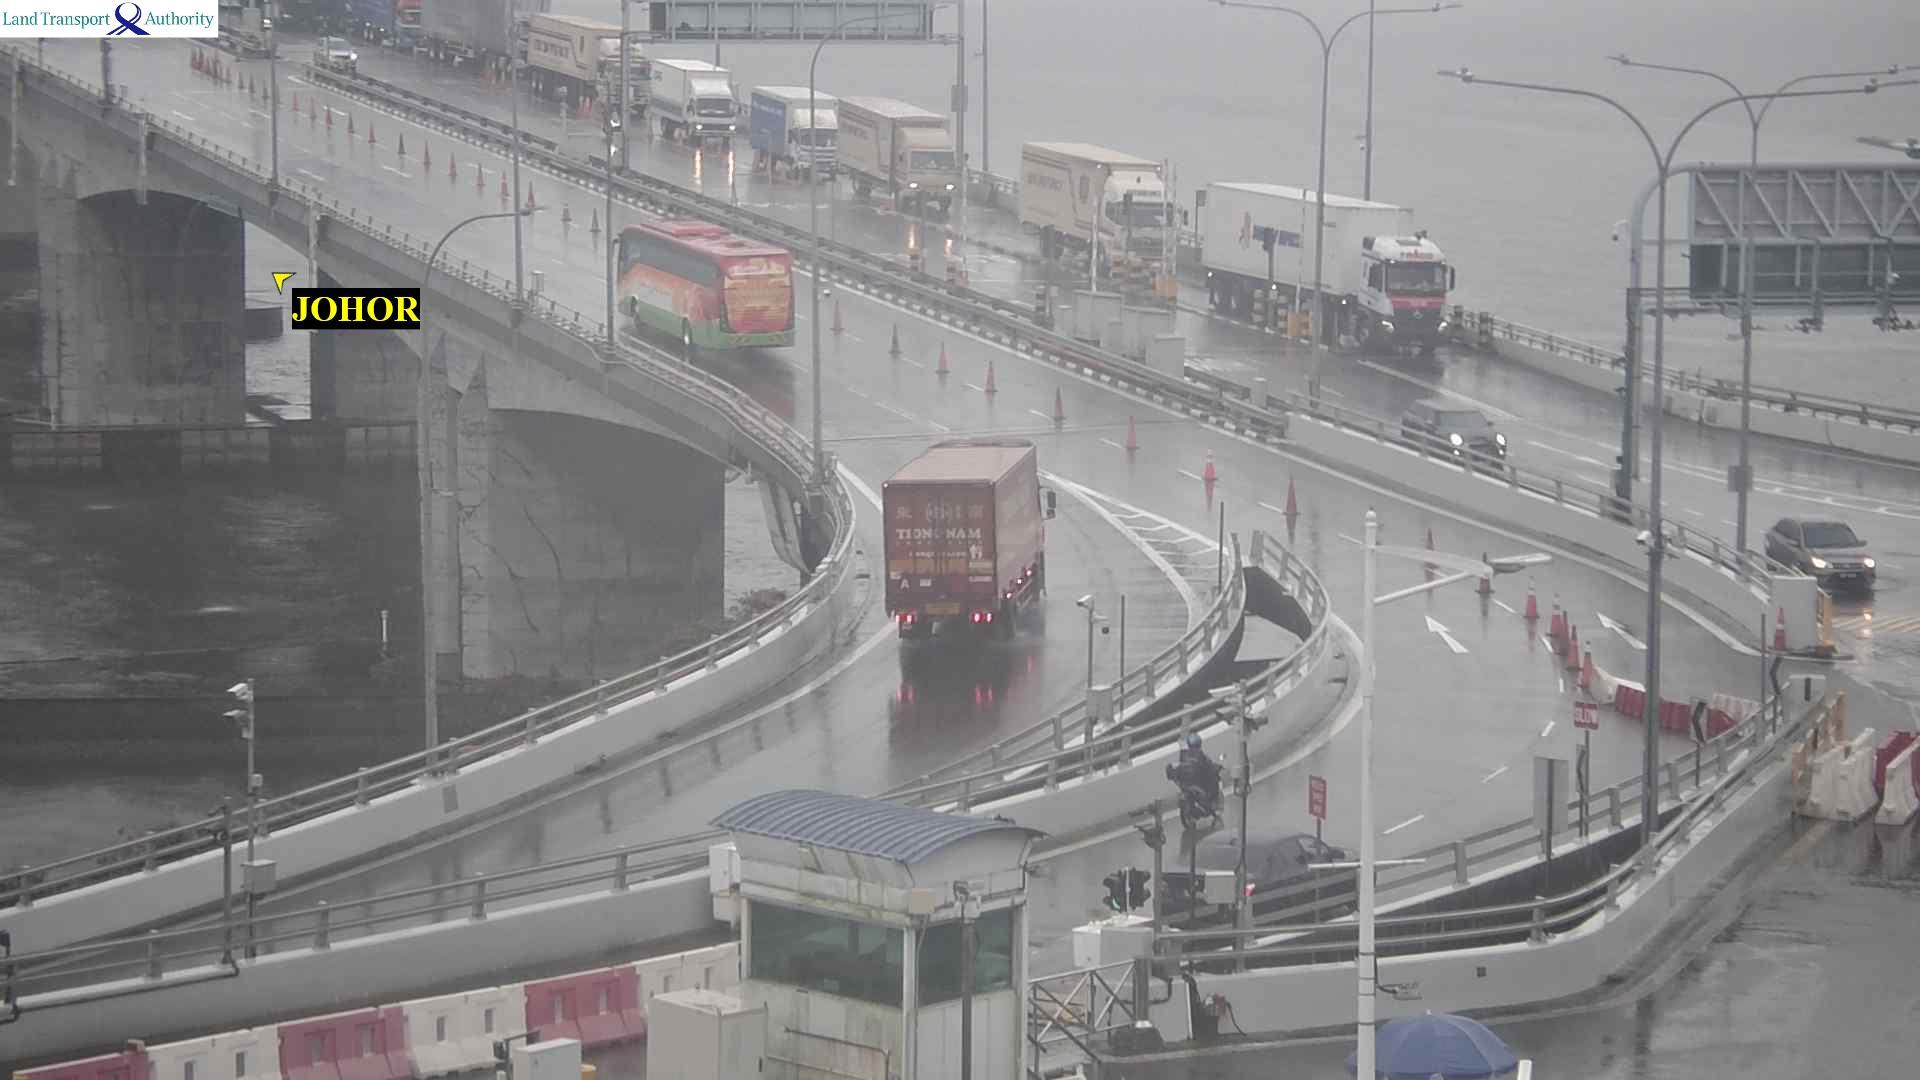vehicle-secondlink-johor: (891, 434, 1050, 638), (625, 212, 787, 360), (1130, 832, 1353, 918), (1170, 731, 1224, 819)
vehicle-secondlink-singapore: (1203, 179, 1460, 342), (1021, 137, 1174, 231), (531, 13, 661, 107), (1770, 517, 1878, 580), (841, 98, 957, 150), (651, 59, 741, 121), (754, 87, 845, 148), (1406, 404, 1507, 451), (650, 95, 748, 131), (313, 41, 357, 66)
